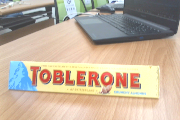Chocolate: (4, 56, 172, 105)
